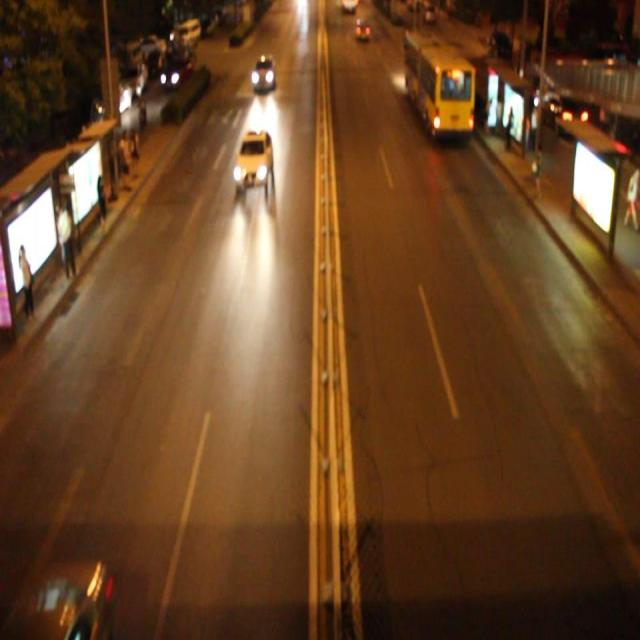car: (1, 559, 109, 640), (234, 128, 275, 190), (251, 53, 276, 93)
van: (402, 28, 473, 134)
